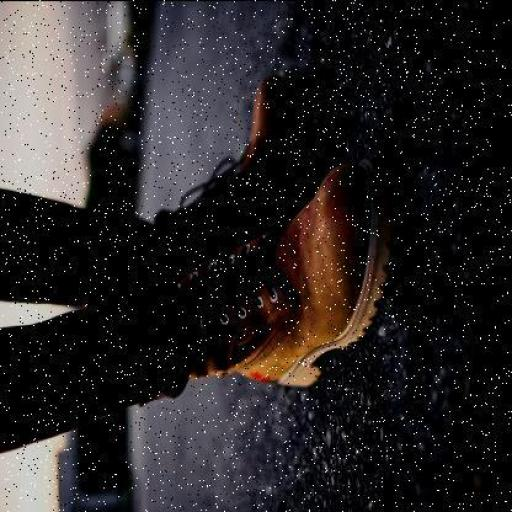safety_shoe: (172, 155, 396, 389), (168, 62, 308, 280)
